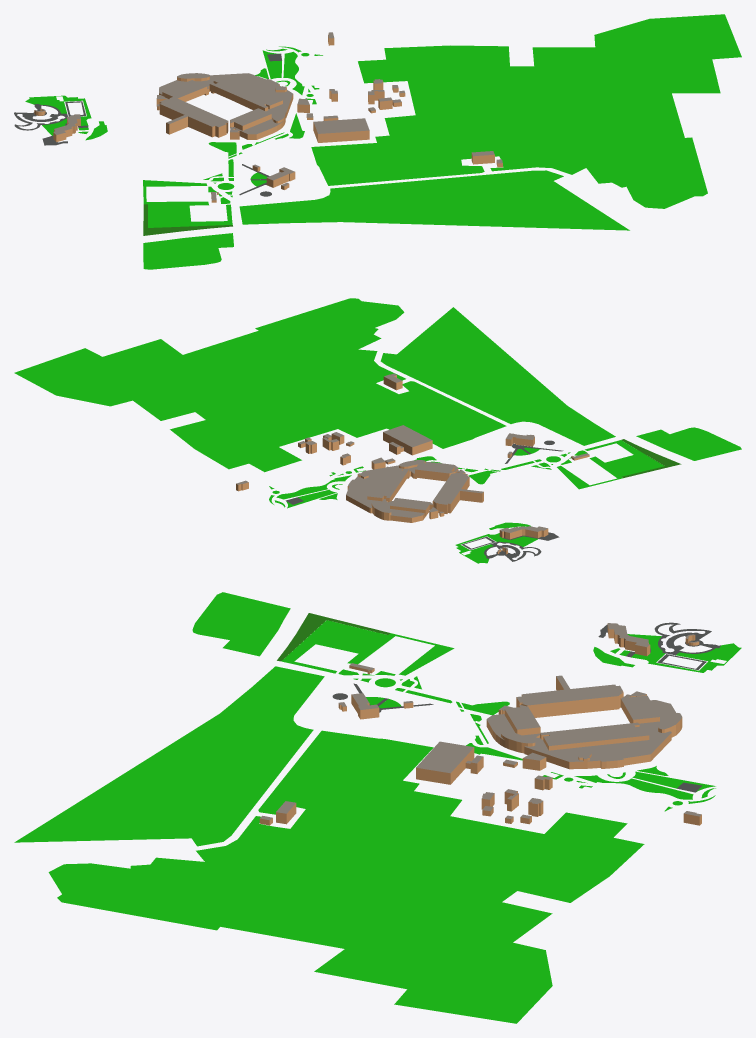
The model's file is stadio.dae.
3 views of the same model, one above another, from view 1: azimuth 30°, elevation 25°; view 2: azimuth 150°, elevation 25°; view 3: azimuth 270°, elevation 25° (orthographic). The views are drawn at different scales.
Parts seen in each view (by area): view 1: map_5.osm_vegetation, map_5.osm_buildings, map_5.osm_areas_pedestrian, map_5.osm_forest; view 2: map_5.osm_vegetation, map_5.osm_buildings, map_5.osm_areas_pedestrian, map_5.osm_forest; view 3: map_5.osm_vegetation, map_5.osm_buildings, map_5.osm_areas_pedestrian, map_5.osm_forest.
Boxes of the visible parts, x1=… form: map_5.osm_vegetation: x1=25, y1=14, x2=741, y2=269; map_5.osm_buildings: x1=34, y1=32, x2=502, y2=202; map_5.osm_areas_pedestrian: x1=14, y1=54, x2=281, y2=196; map_5.osm_forest: x1=143, y1=204, x2=232, y2=235; map_5.osm_vegetation: x1=14, y1=298, x2=741, y2=563; map_5.osm_buildings: x1=236, y1=373, x2=589, y2=554; map_5.osm_areas_pedestrian: x1=286, y1=440, x2=563, y2=561; map_5.osm_forest: x1=621, y1=439, x2=681, y2=477; map_5.osm_vegetation: x1=14, y1=592, x2=741, y2=1023; map_5.osm_buildings: x1=259, y1=623, x2=701, y2=825; map_5.osm_areas_pedestrian: x1=332, y1=622, x2=720, y2=792; map_5.osm_forest: x1=277, y1=613, x2=390, y2=661.
Size of the model in its own units: 1364 by 972 by 19.93.
